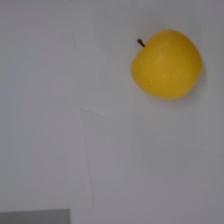yellow: (129, 28, 205, 103)
